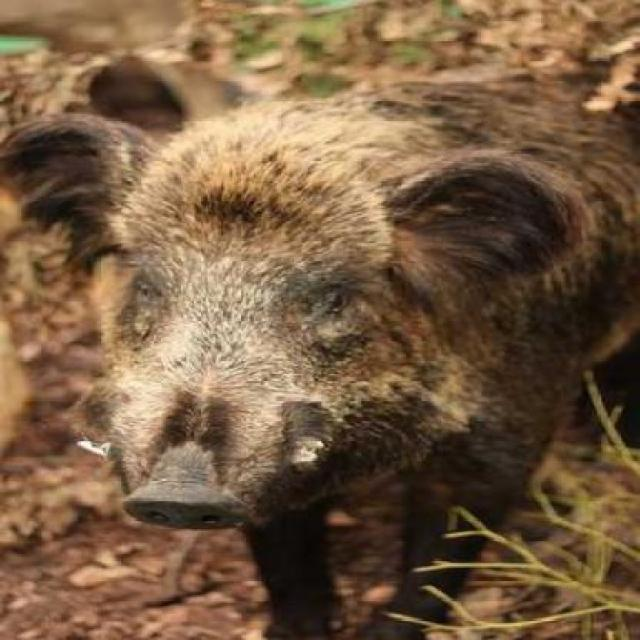pig: (18, 3, 634, 596)
